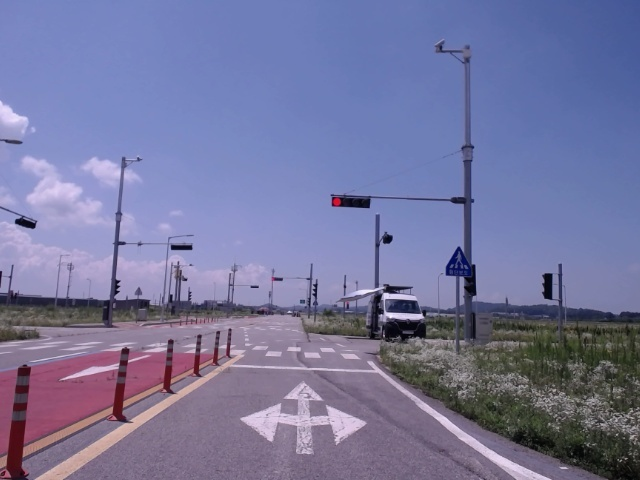red_4: (331, 197, 371, 208)
